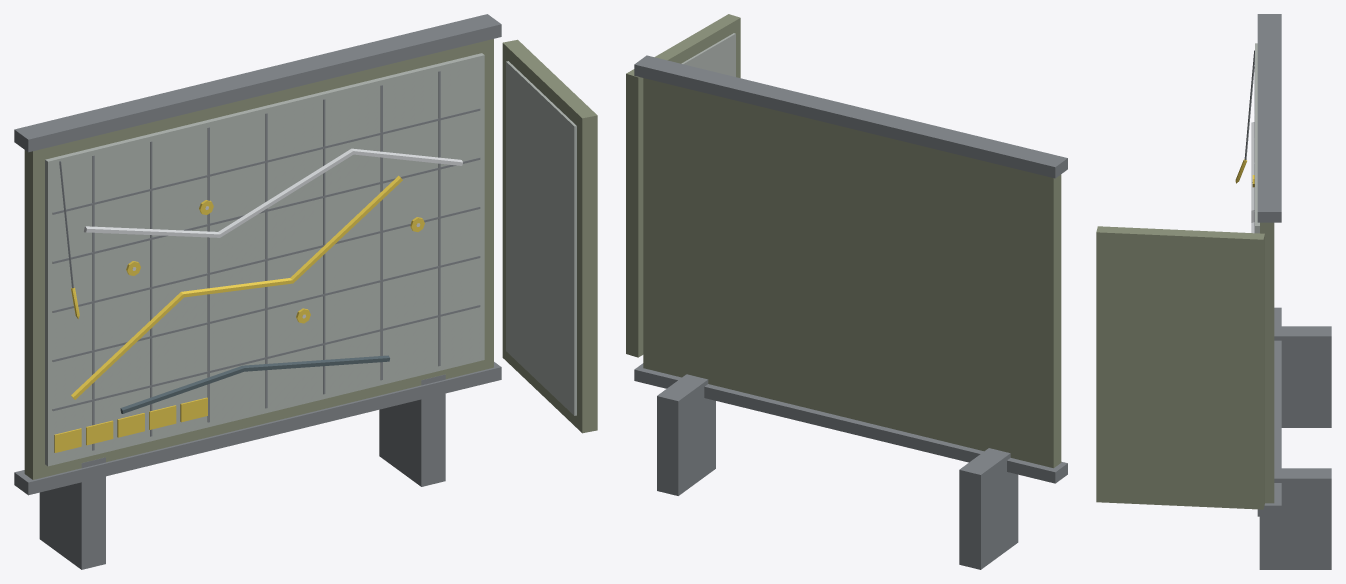
File: cold-war-missile-silo-and-command-bunker-wall-map-boar-b6bce47c__15701.glb
3 renders of one model, left to right at view 1: azimuth 30°, elevation 25°; view 2: azimuth 150°, elevation 25°; view 3: azimuth 270°, elevation 25°, orthographic. The views are drawn at different scales.
Visible parts, largest first — view 1: wall-map-board; view 2: wall-map-board; view 3: wall-map-board.
Boxes of the visible parts, box(x1,y1,x2,y2) form: wall-map-board: box(14, 14, 597, 569); wall-map-board: box(626, 14, 1067, 569); wall-map-board: box(1096, 14, 1331, 569).
Bounding box in the file's own units: 2.03 × 1.75 × 0.98.
